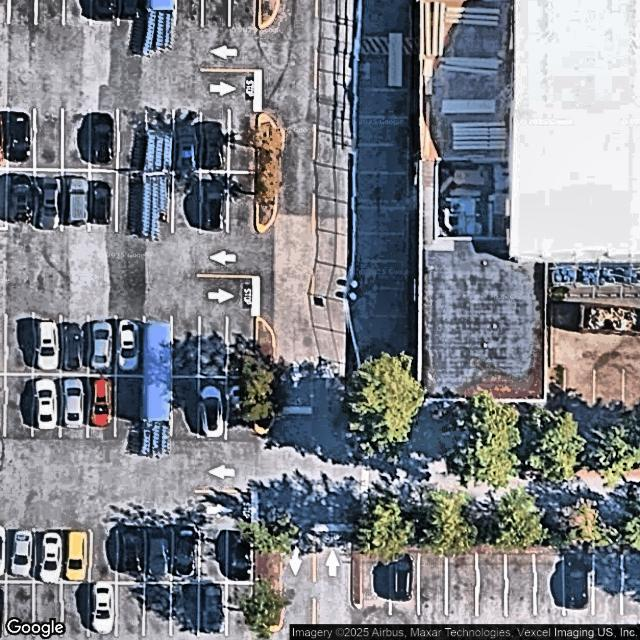car: (226, 525, 253, 582), (564, 554, 591, 611), (89, 113, 115, 166), (198, 386, 225, 437), (65, 529, 89, 584), (8, 172, 33, 224), (6, 112, 31, 163), (173, 525, 196, 580), (200, 585, 225, 635), (34, 378, 58, 430), (91, 583, 115, 635), (391, 552, 415, 603), (36, 318, 59, 371), (117, 320, 140, 373), (39, 174, 61, 228), (173, 120, 197, 169), (146, 531, 170, 580), (65, 176, 88, 227), (201, 180, 223, 233), (201, 122, 225, 170), (10, 528, 33, 578), (41, 530, 62, 584), (63, 377, 85, 428), (63, 321, 85, 371), (90, 178, 112, 226), (91, 378, 113, 426), (90, 322, 111, 370), (229, 383, 251, 421), (92, 0, 118, 22), (119, 0, 142, 22)
lot_boundary: (0, 0, 260, 639), (360, 549, 639, 639)
objects: (143, 321, 172, 456), (144, 124, 170, 236), (144, 0, 176, 56)
stall: (419, 554, 449, 613), (61, 112, 91, 170), (88, 113, 118, 171), (563, 556, 593, 614), (4, 171, 34, 229), (32, 112, 62, 170), (32, 171, 62, 229), (172, 173, 202, 231), (199, 318, 229, 376), (170, 317, 200, 375), (225, 173, 255, 231), (59, 317, 89, 375), (114, 317, 144, 375), (114, 172, 144, 230), (117, 112, 147, 170), (448, 555, 477, 613), (535, 555, 564, 613), (506, 554, 535, 612), (477, 555, 506, 613), (362, 555, 391, 613), (390, 555, 419, 613), (593, 556, 622, 614), (60, 171, 89, 229), (88, 171, 117, 229), (199, 171, 228, 229), (200, 113, 229, 171), (172, 113, 201, 171), (229, 113, 258, 171), (86, 317, 115, 375), (4, 316, 33, 374), (32, 317, 61, 375), (5, 375, 32, 436), (61, 375, 88, 436), (88, 377, 115, 438), (116, 377, 143, 438), (227, 319, 256, 375), (200, 378, 227, 438), (172, 378, 199, 438), (33, 376, 60, 436), (228, 378, 255, 438), (90, 530, 118, 584), (34, 529, 62, 583), (118, 529, 146, 583), (144, 529, 172, 583), (116, 584, 144, 638), (34, 582, 62, 636), (172, 585, 200, 639), (8, 112, 34, 169), (200, 528, 227, 582), (228, 529, 255, 583), (62, 528, 89, 582), (7, 529, 34, 583), (171, 528, 198, 582), (89, 583, 116, 637), (62, 583, 89, 637), (7, 583, 34, 637), (228, 585, 255, 639), (200, 584, 227, 638), (143, 583, 170, 637), (8, 0, 36, 24), (202, 0, 230, 24), (37, 0, 64, 24), (64, 0, 91, 24), (178, 0, 205, 24), (230, 0, 257, 24), (119, 0, 146, 24), (91, 0, 118, 24)
